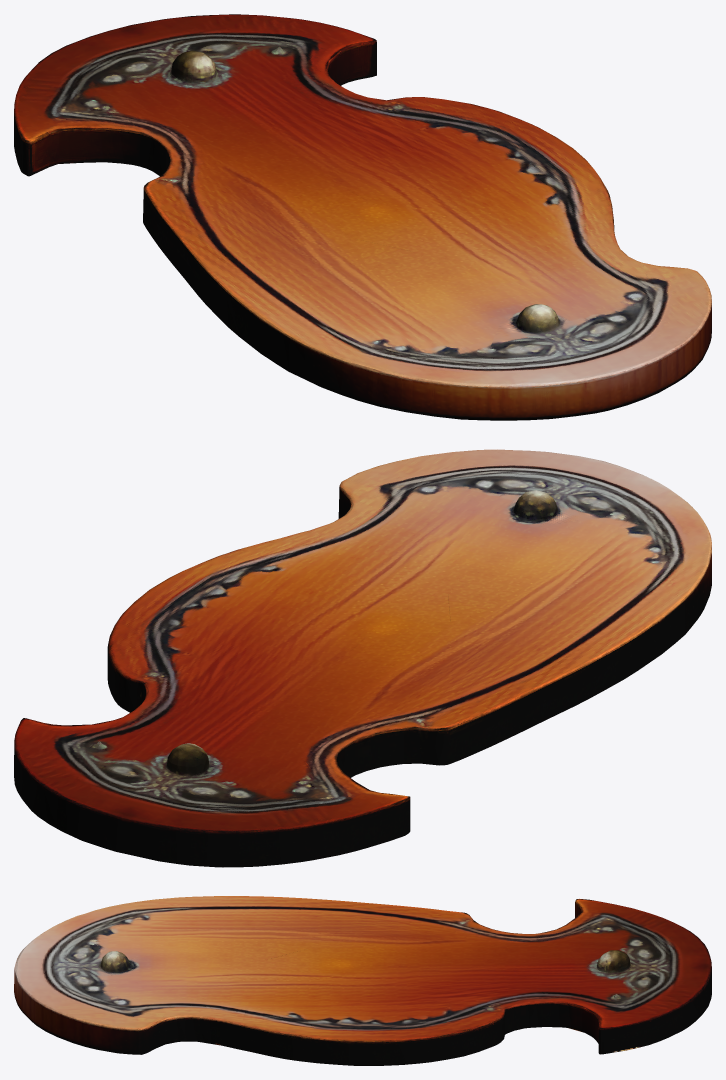
File: wooden-back-scratcher-vintage.jpeg.glb
3 renders of one model, top to bottom at view 1: azimuth 30°, elevation 25°; view 2: azimuth 150°, elevation 25°; view 3: azimuth 270°, elevation 25°, orthographic. The views are drawn at different scales.
Visible parts, largest first — view 1: world; view 2: world; view 3: world.
Part boxes in pixels (x1,y1,x2,y2): world: [14, 14, 711, 420]; world: [14, 449, 711, 867]; world: [14, 896, 711, 1065].
Size of the model in its own units: 0.4936 by 0.0817 by 1.
1 material, 1 textured.
